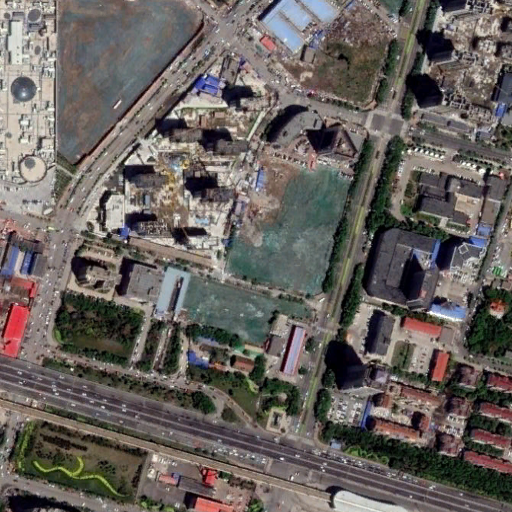cw: (56, 3, 208, 180), (223, 161, 352, 299), (177, 276, 314, 344)
